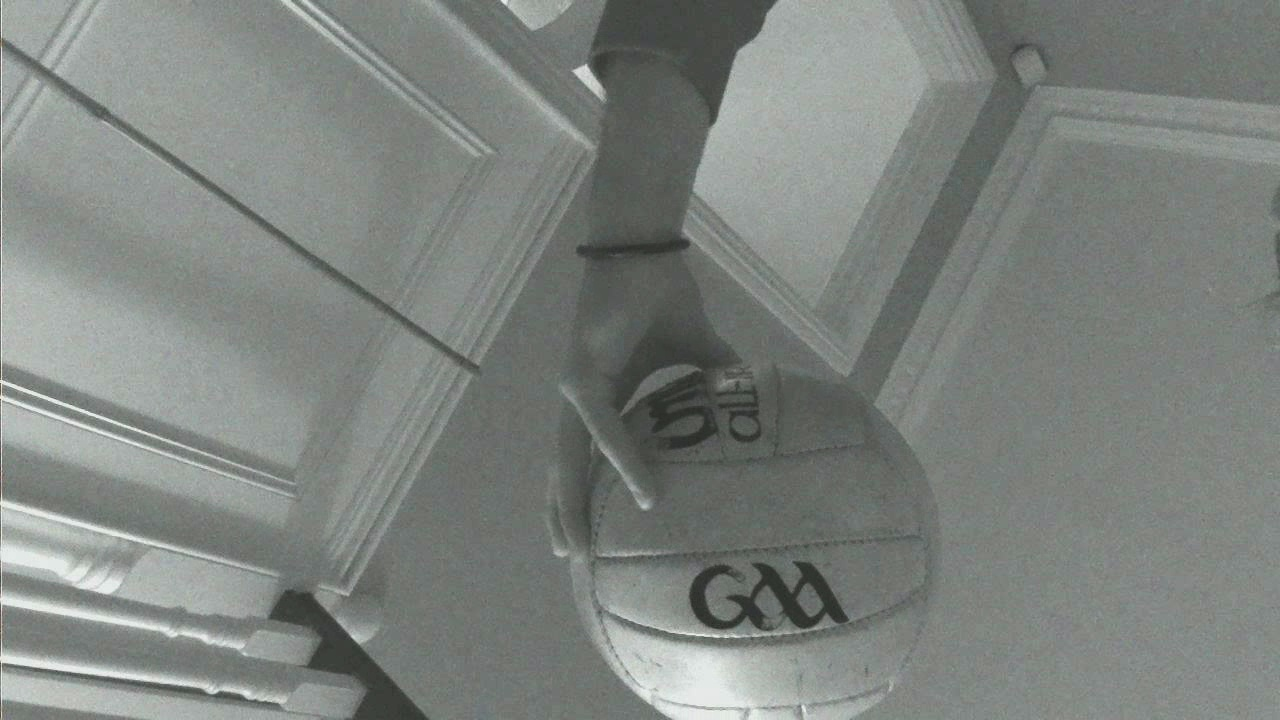Football-Spotter: (571, 366, 936, 719)
